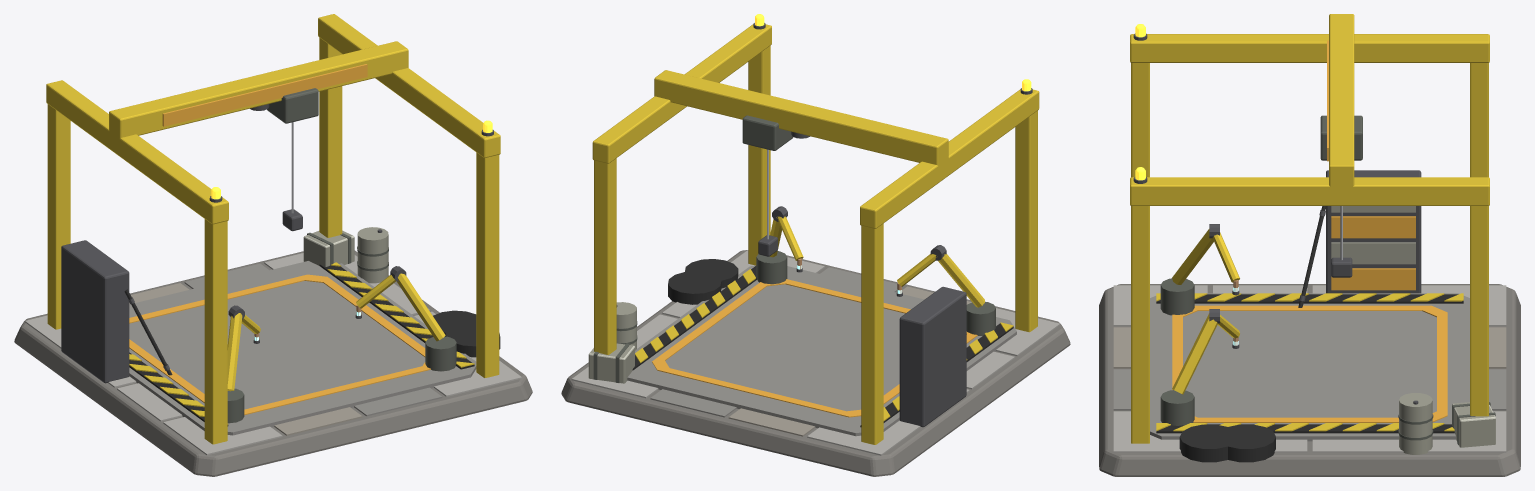
File: repair_bay_orange.glb
3 renders of one model, left to right at view 1: azimuth 30°, elevation 25°; view 2: azimuth 150°, elevation 25°; view 3: azimuth 270°, elevation 25°, orthographic. The views are drawn at different scales.
Parts seen in each view (by area): view 1: Body; view 2: Body; view 3: Body.
Boxes of the visible parts, bbox=[...] form: Body: bbox=[14, 14, 532, 476]; Body: bbox=[561, 14, 1070, 476]; Body: bbox=[1099, 14, 1520, 476].
Bounding box in the file's own units: 4.06 × 3.12 × 3.98.
Materials: 1 (1 with a texture image).
